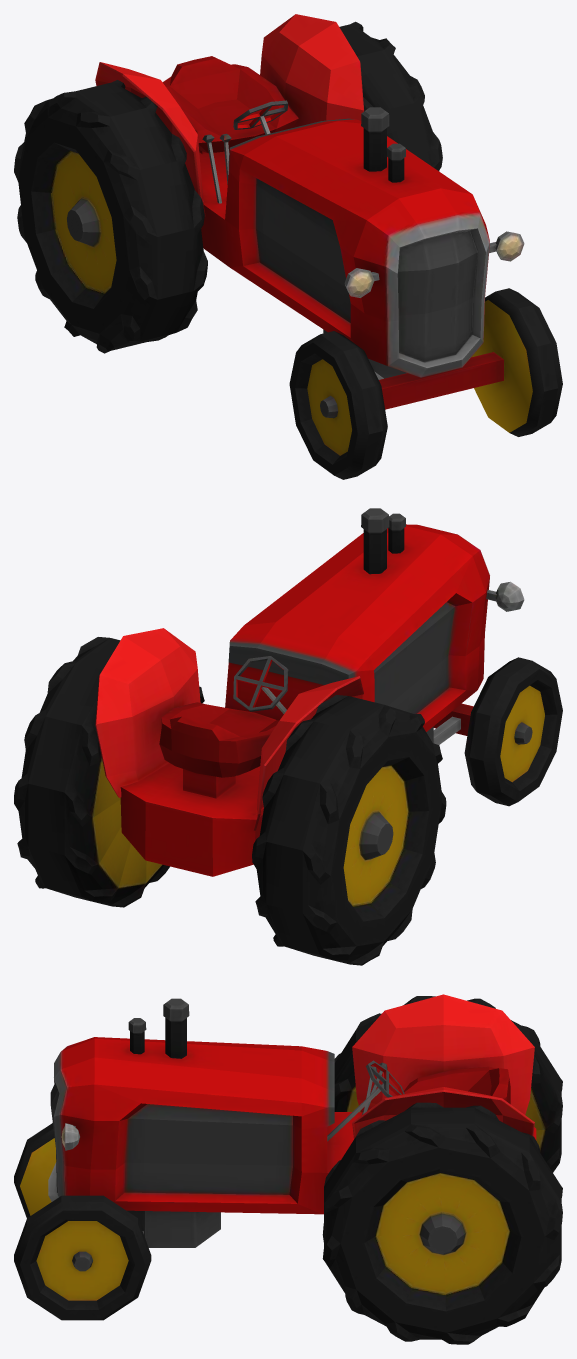
The model's file is tractor2.glb.
The picture shows the model from 3 angles, top to bottom: view 1: azimuth 30°, elevation 25°; view 2: azimuth 150°, elevation 25°; view 3: azimuth 270°, elevation 25°; orthographic projection. The views are drawn at different scales.
Parts seen in each view (by area): view 1: Tractor_mesh; view 2: Tractor_mesh; view 3: Tractor_mesh.
Boxes of the visible parts, x1,y1,x2,y2 form: Tractor_mesh: (14,14,562,479); Tractor_mesh: (14,508,562,965); Tractor_mesh: (14,994,562,1344).
Bounding box in the file's own units: 9.35 × 8.62 × 15.49.
1 material, 1 textured.
